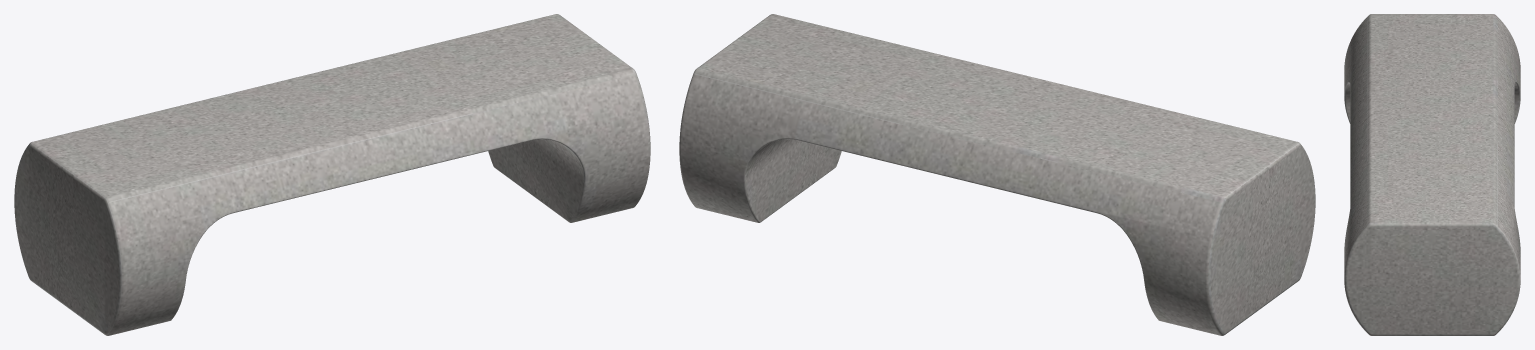
The model's file is granite.glb.
3 views of the same model, side by side, from view 1: azimuth 30°, elevation 25°; view 2: azimuth 150°, elevation 25°; view 3: azimuth 270°, elevation 25° (orthographic). The views are drawn at different scales.
Parts seen in each view (by area): view 1: Circle.003; view 2: Circle.003; view 3: Circle.003.
Part boxes in pixels (bbox=[...]): Circle.003: bbox=[14, 14, 650, 335]; Circle.003: bbox=[679, 14, 1315, 335]; Circle.003: bbox=[1344, 14, 1520, 335].
Bounding box in the file's own units: 1.49 × 0.3736 × 0.5282.
1 material, 1 textured.
